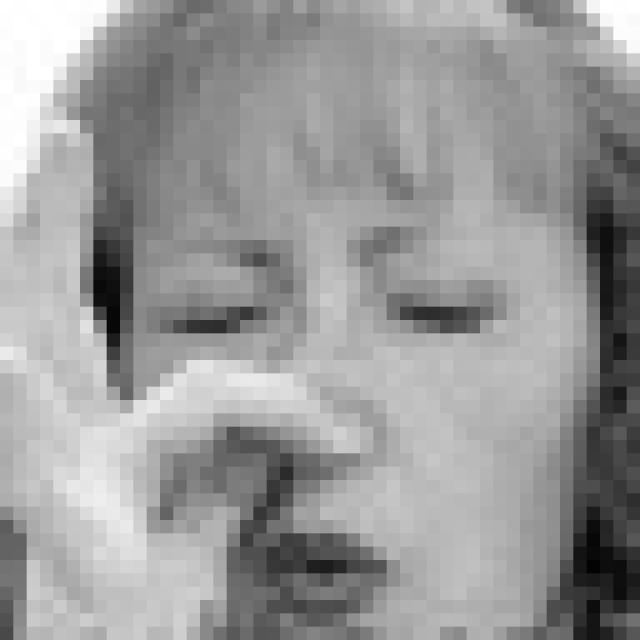disgust: (136, 218, 517, 640)
